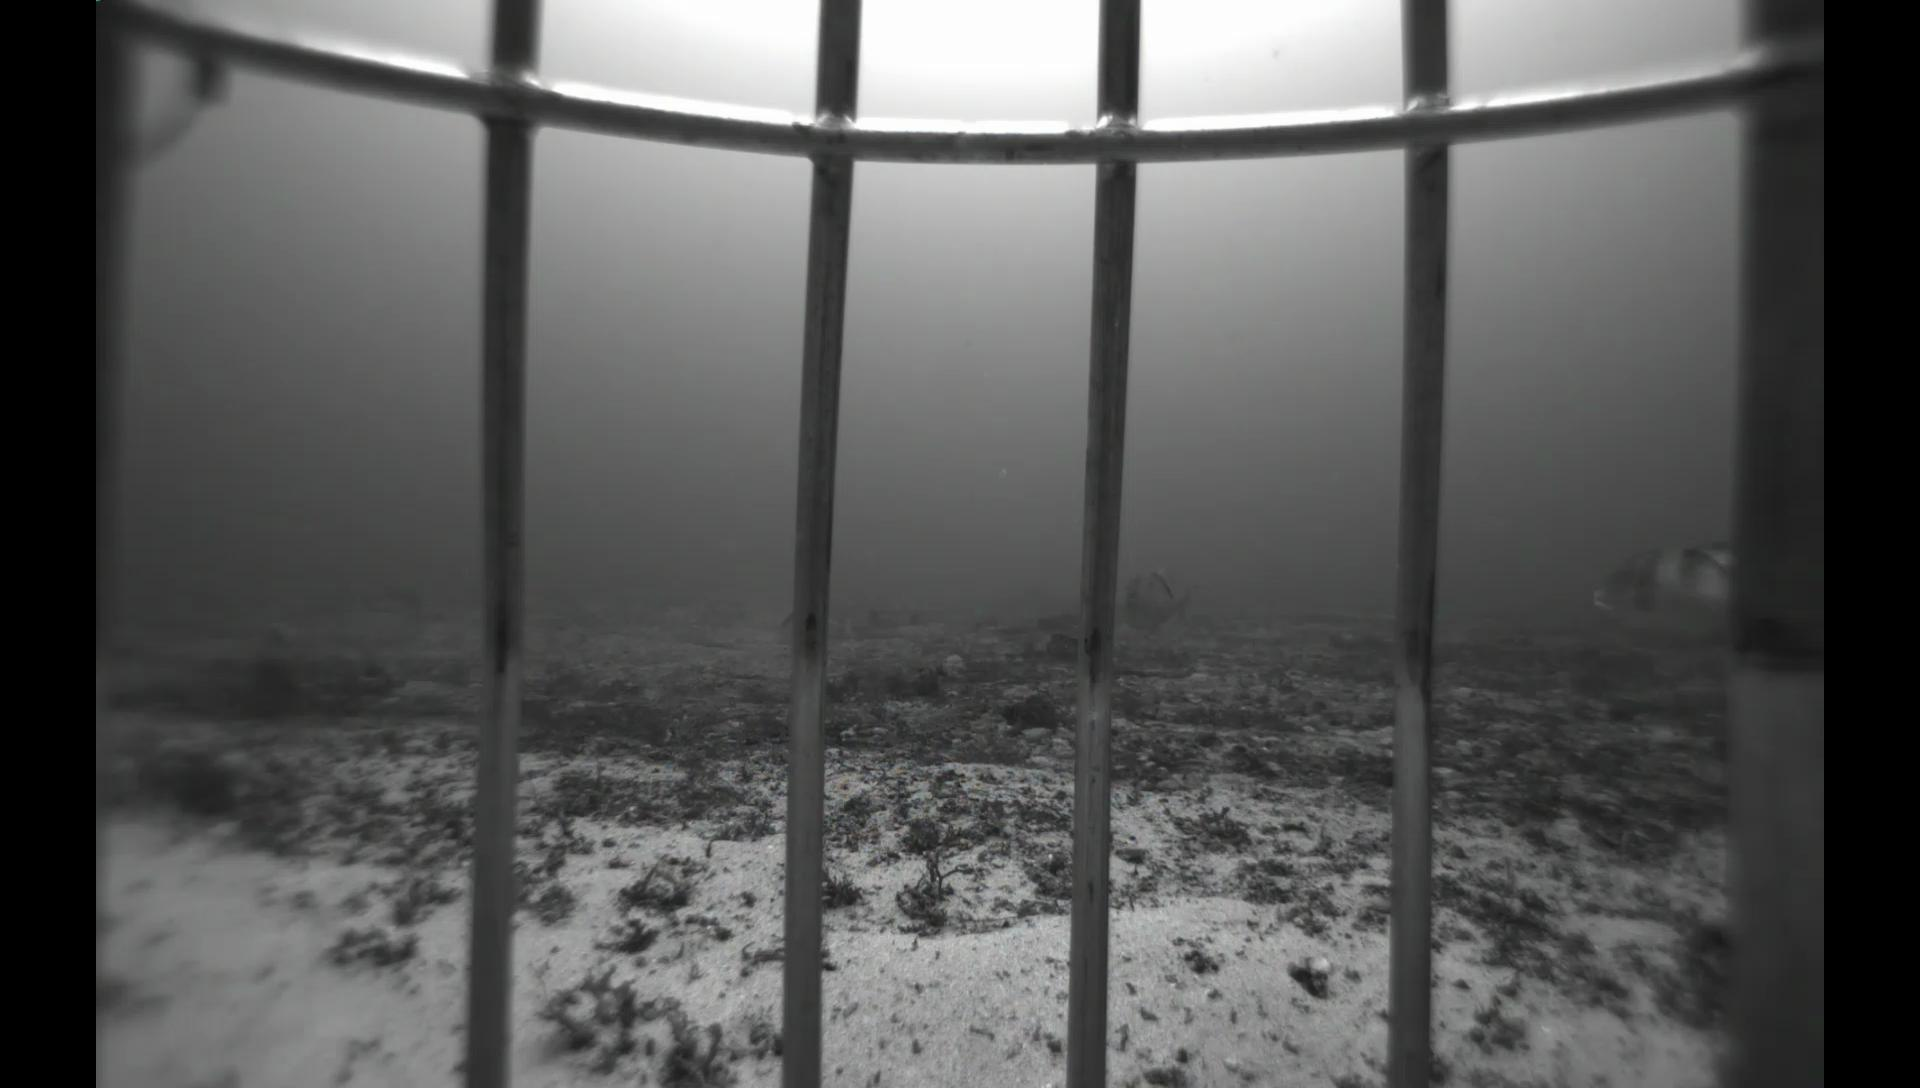BALISTESCAPRISCUS-189030502: (1585, 539, 1727, 675), (1114, 560, 1215, 654)
LUTJANUSGRISEUS-170151109: (767, 605, 862, 648)
PAGRUSPAGRUS-170212302: (229, 601, 314, 657)
